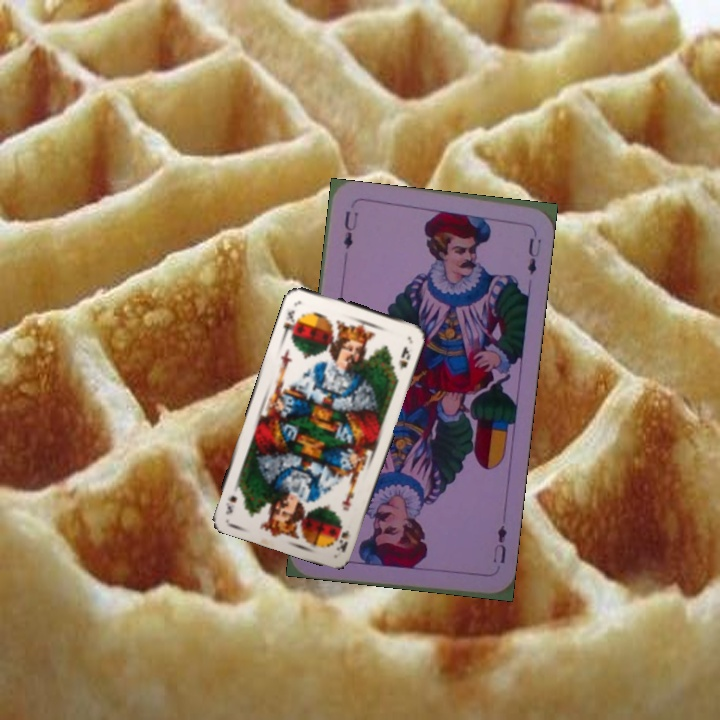EU: (488, 521, 510, 566), (339, 207, 361, 251)
SK: (278, 306, 301, 340), (332, 521, 352, 555)
